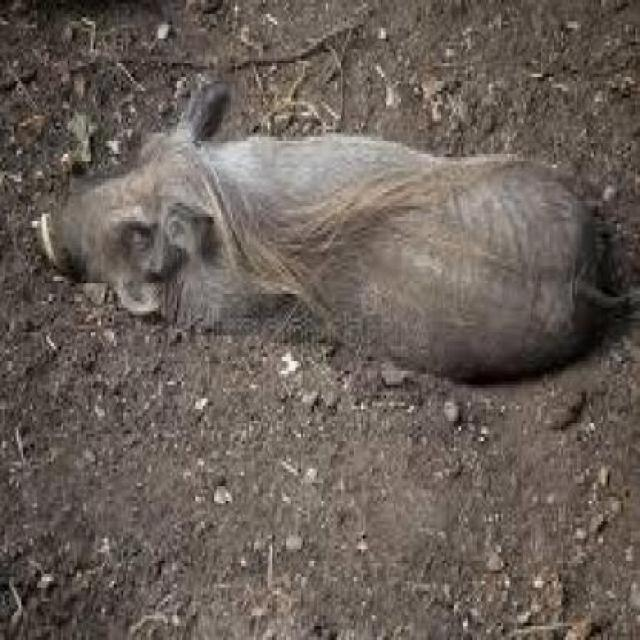wildboar: (24, 78, 621, 390)
